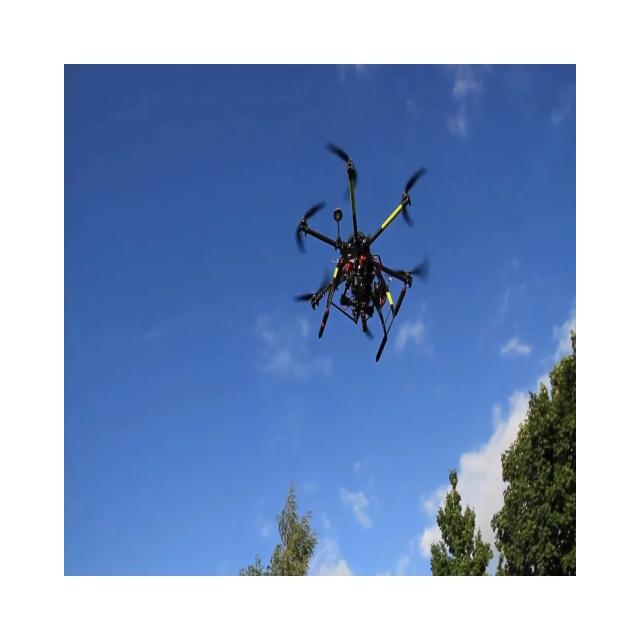drone: (293, 140, 430, 362)
